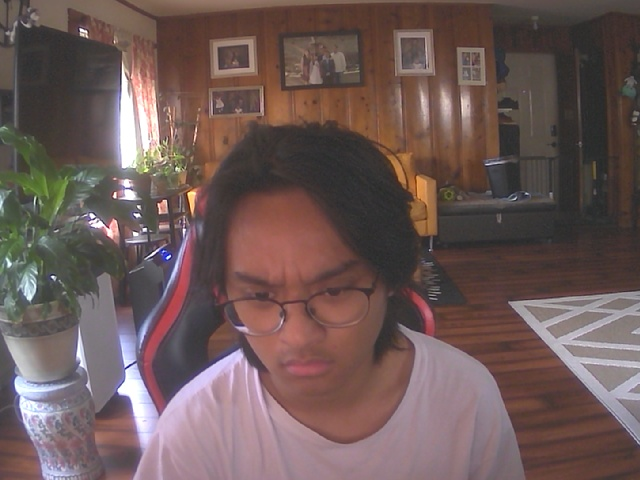anger: (210, 171, 404, 399)
